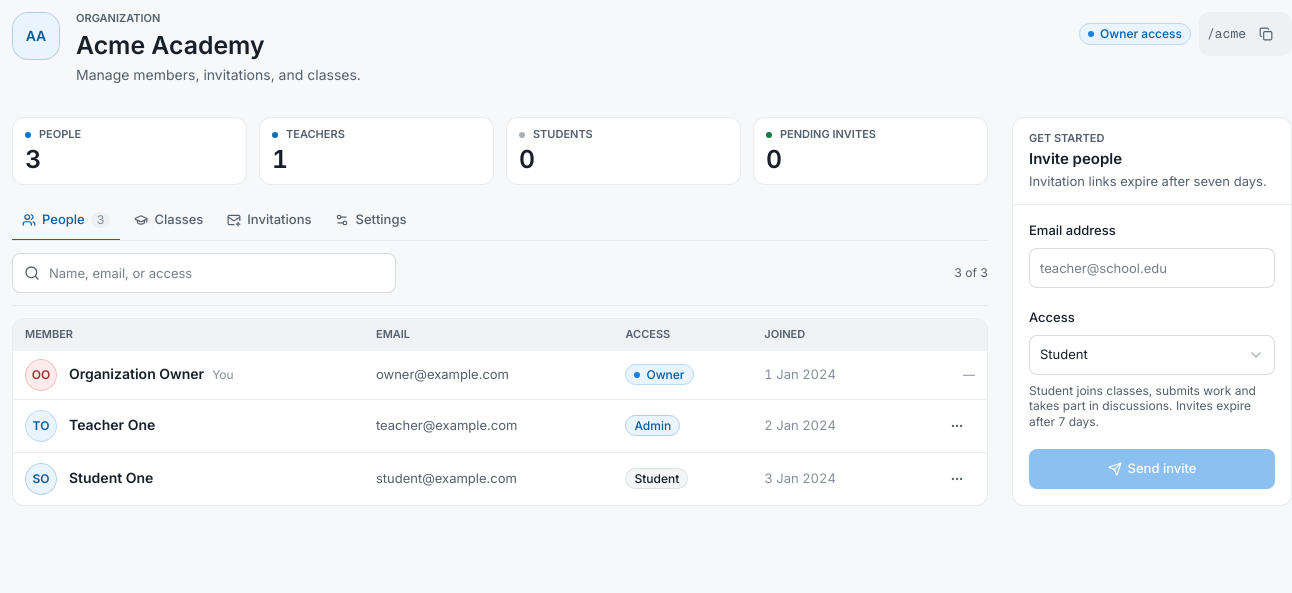
Test: OrganizationAdminClient › creates an invitation, copies its link, and preserves the selected role
Type "newstudent@example.com" into the field labelled "Email address".
click(1152, 268); type("newstudent@example.com")  # box [1029,248,1275,288]
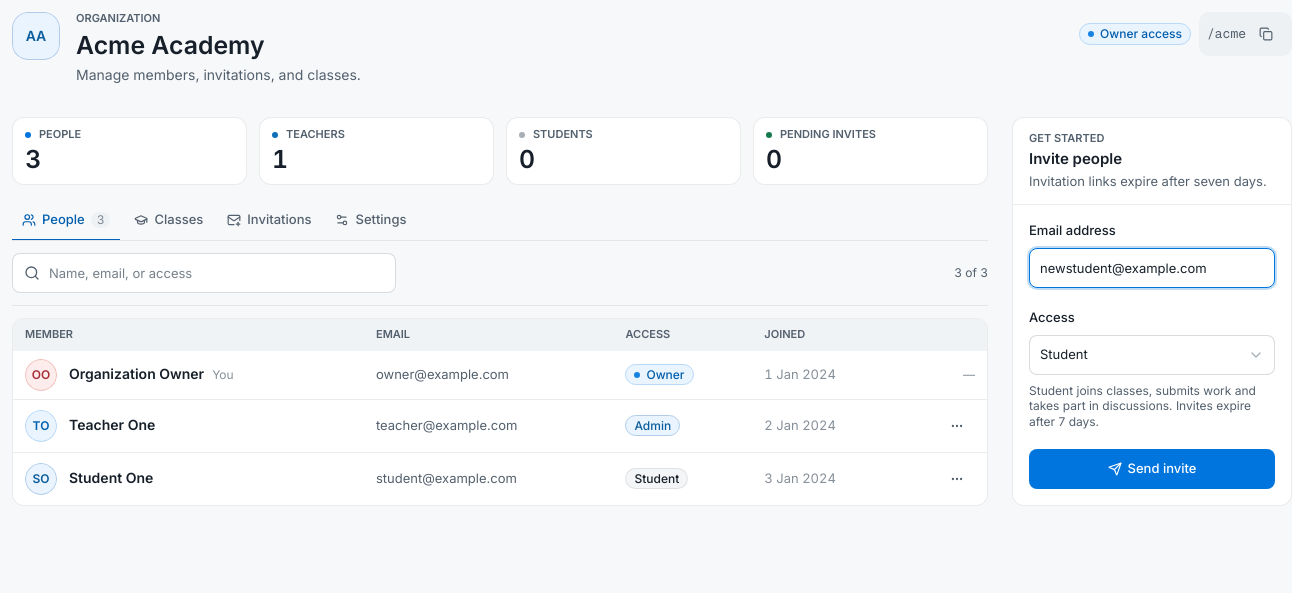
Click the button "Send invite".
click(1152, 469)  # box [1029,449,1275,489]
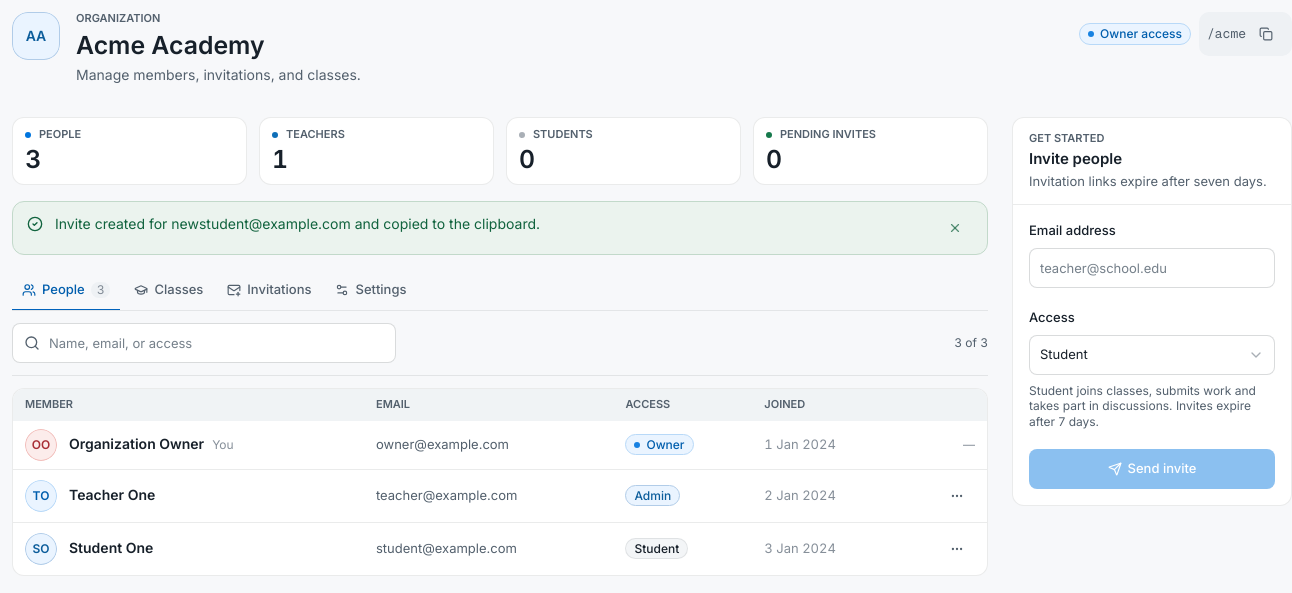
Now the text "Invite created for newstudent@example.com" is shown, box [55,215,540,232]
